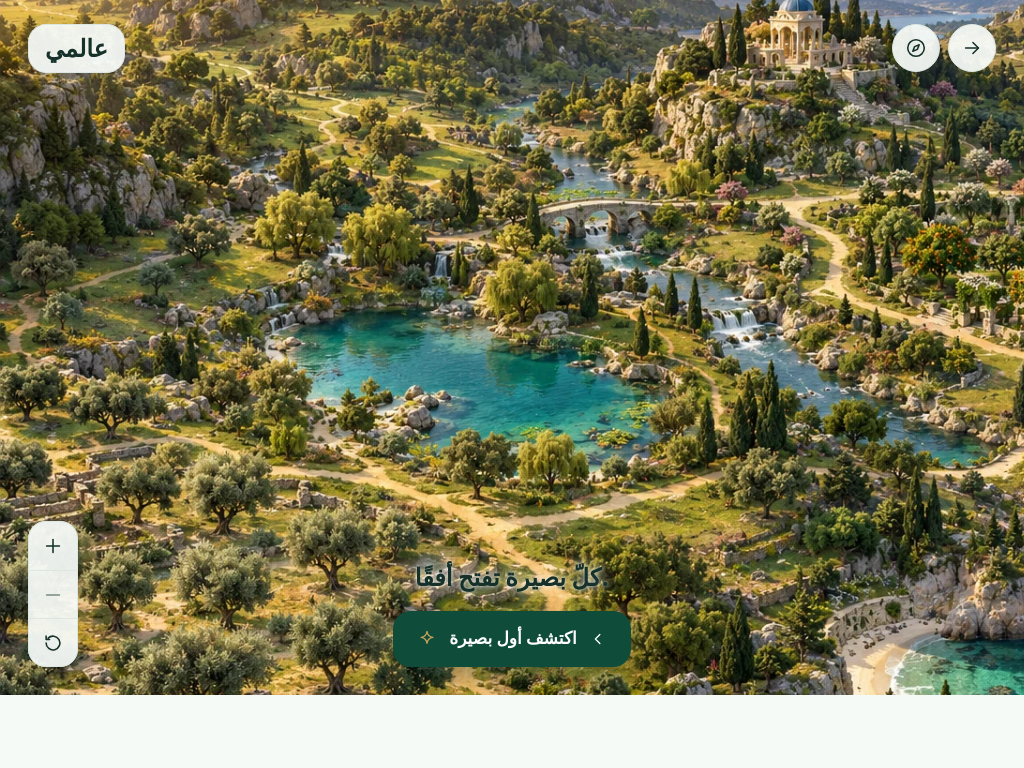
Test case: WorldScreen › greets a newcomer with clouds, one invitation and the camera: no names, list or count
Expected: the text "كلّ بصيرة تفتح أفقًا." is shown, x1=415 y1=556 x2=609 y2=599
Click the button "اكتشف أول بصيرة": [512, 639] box x1=393 y1=611 x2=631 y2=667
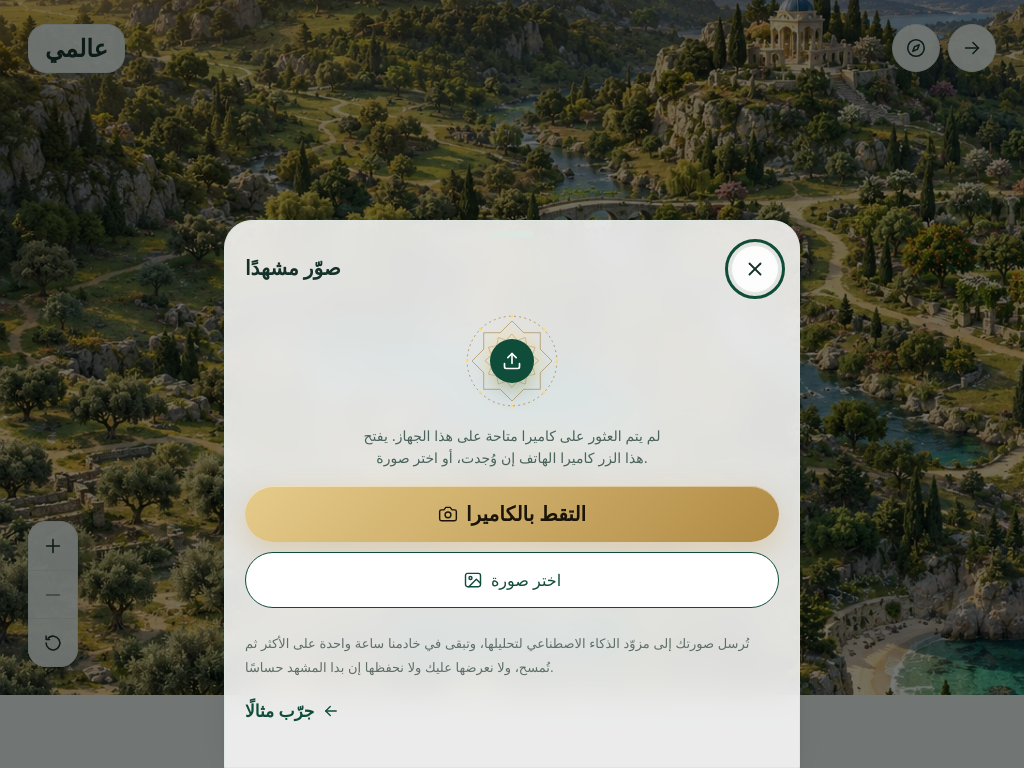
Now the dialog "صوّر مشهدًا" is shown, box x1=224 y1=220 x2=800 y2=767
